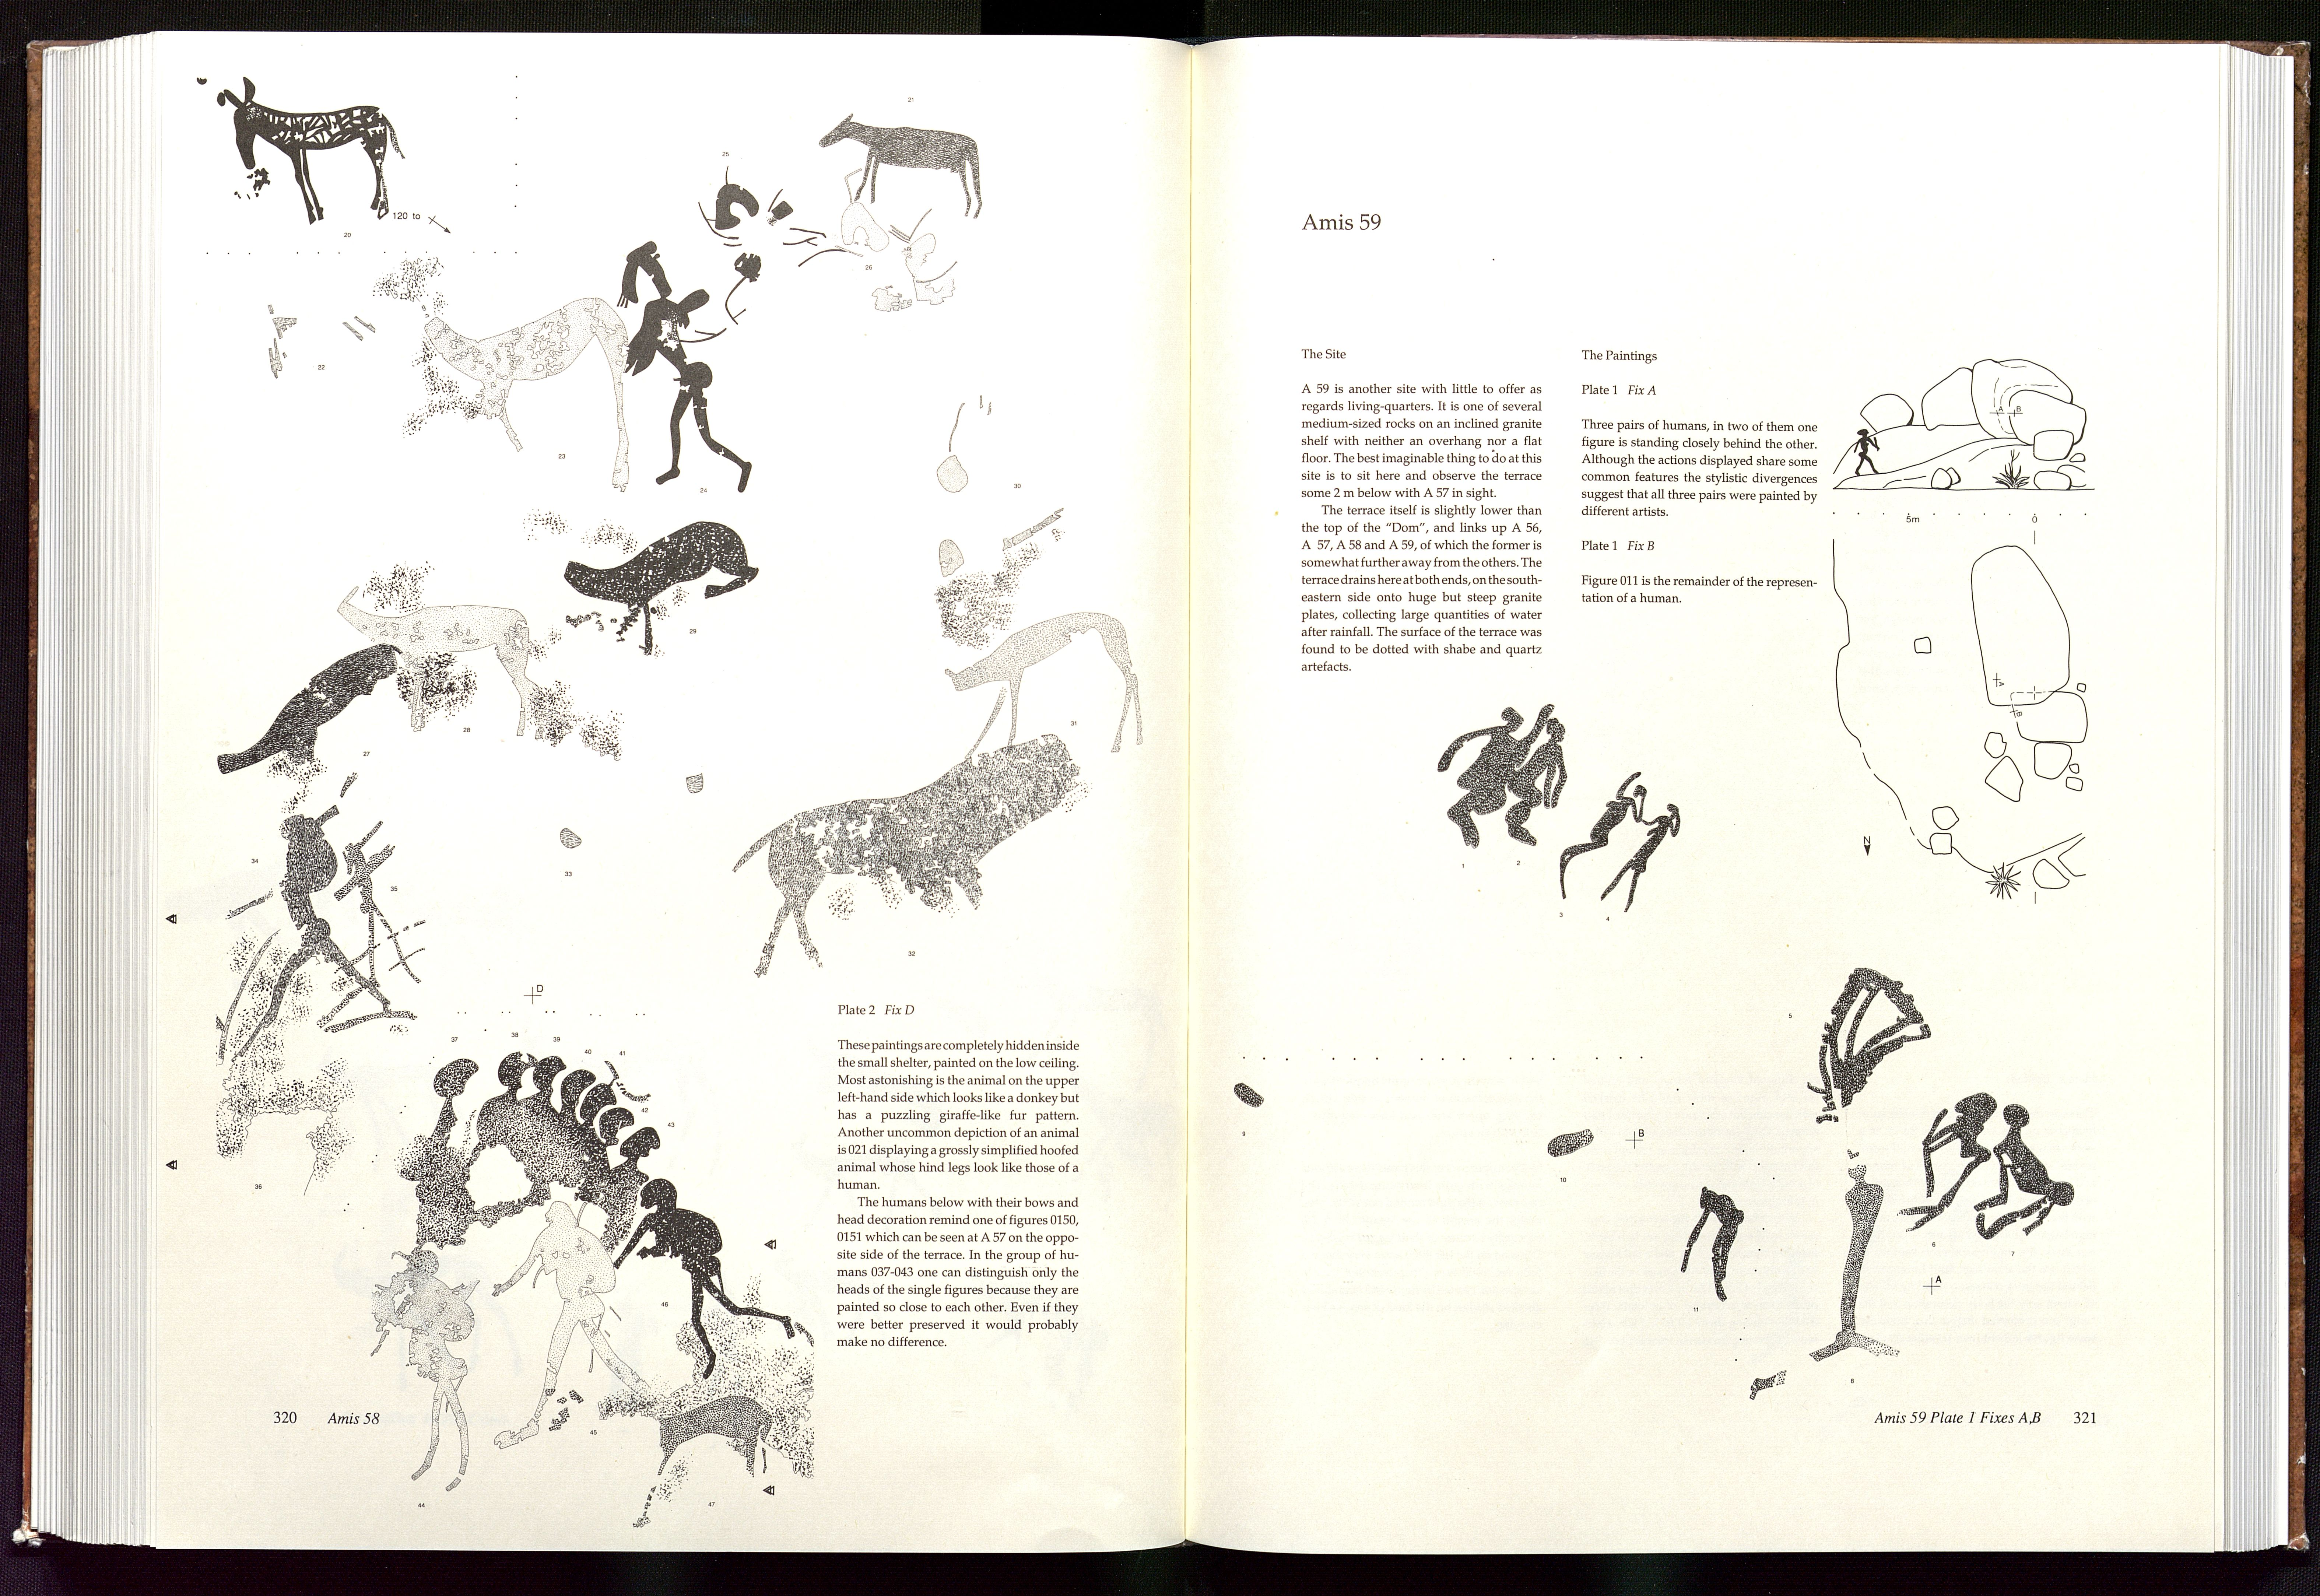animal: (726, 724, 1099, 975), (409, 284, 640, 494), (328, 579, 556, 744), (936, 606, 1164, 771), (555, 514, 762, 660), (216, 74, 404, 229), (815, 105, 993, 220), (638, 1397, 773, 1483)
human: (484, 1187, 671, 1450), (228, 801, 399, 1064), (598, 241, 761, 496), (608, 1168, 799, 1382), (376, 1245, 480, 1495), (1432, 691, 1551, 847), (331, 813, 427, 990), (392, 1044, 471, 1244), (1971, 1104, 2080, 1245), (1895, 1089, 1996, 1235), (1556, 768, 1646, 902), (1597, 799, 1685, 913), (1503, 708, 1568, 850), (594, 1122, 664, 1259), (508, 1048, 565, 1181), (474, 1041, 536, 1164), (544, 1059, 600, 1175), (568, 1081, 620, 1169), (578, 1104, 640, 1163)
